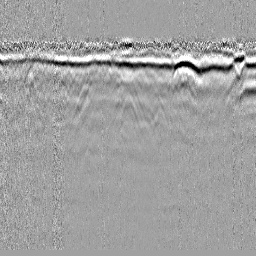cavity: (117, 92, 139, 129)
